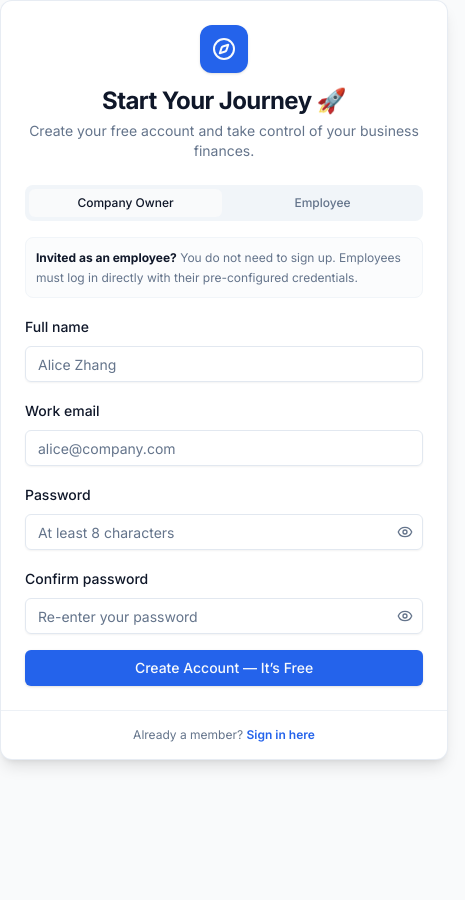
Scenario: SignUpForm › blocks sign-up if check-email endpoint detects email is an already registered owner
Type "Owner Charlie" into the field labelled "Full name" at [224, 364], box [25, 346, 423, 382]
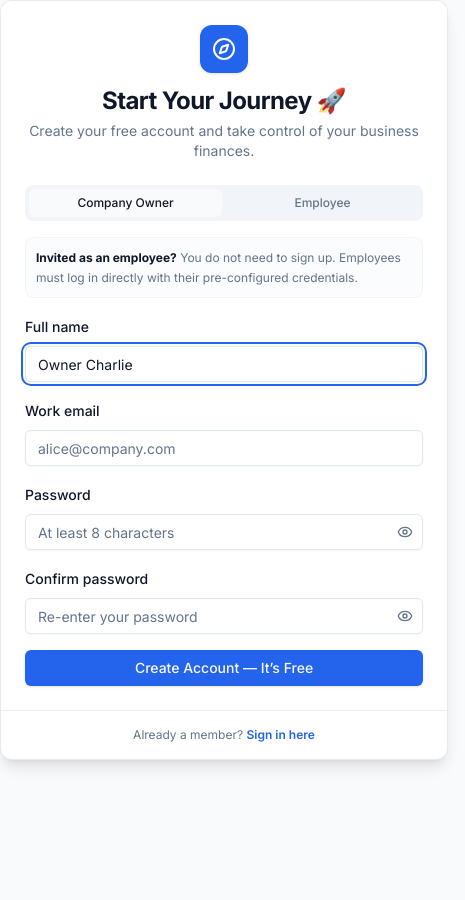
Type "charlie@company.com" into the field labelled "Work email" at [224, 448], box [25, 430, 423, 466]
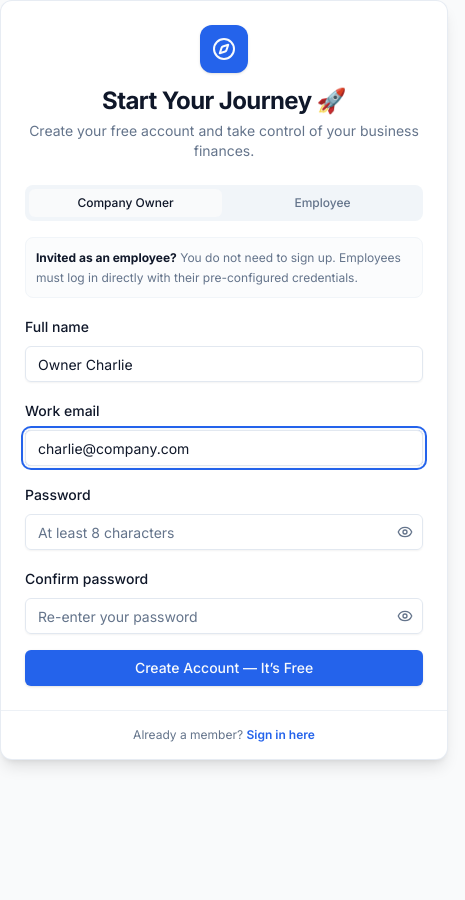
Type "securepassword123" into the password field labelled "Password" at [224, 532], box [25, 514, 423, 550]
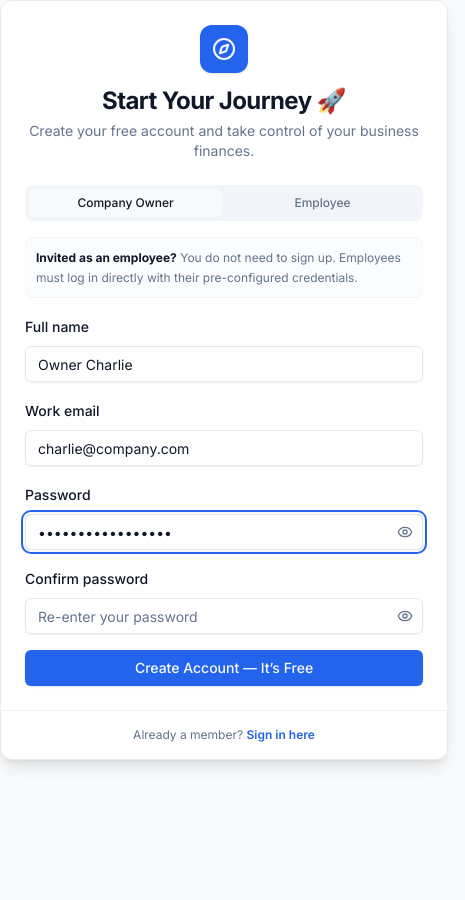
Type "securepassword123" into the password field labelled "Confirm password" at [224, 616], box [25, 598, 423, 634]
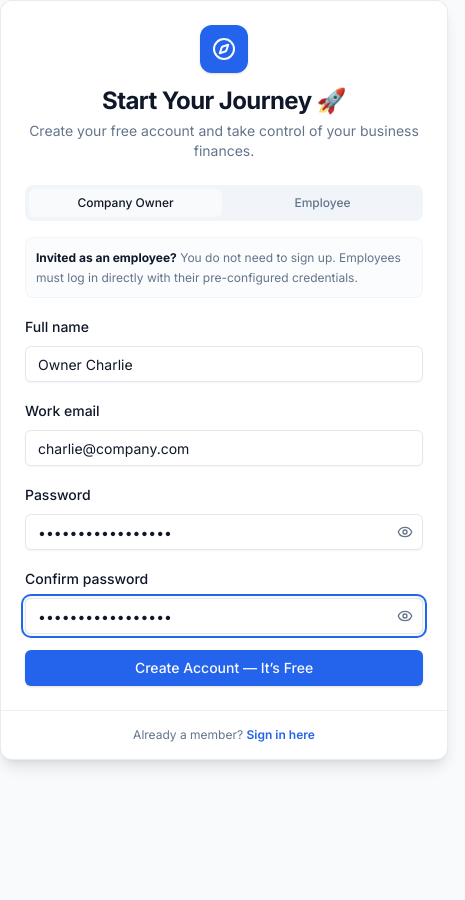
Click the button "Create Account — It’s Free" at [224, 668], box [25, 650, 423, 686]
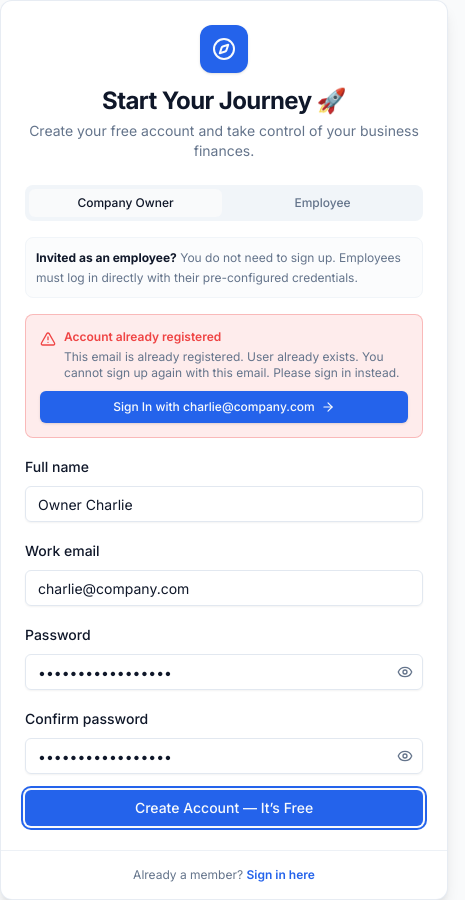
Now the text "User already exists" is shown, box [64, 349, 400, 380]
